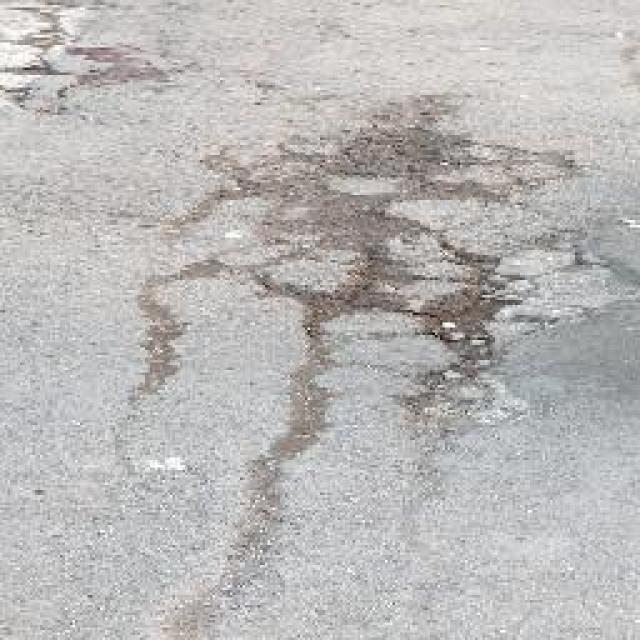waterlogging: (104, 81, 589, 418)
